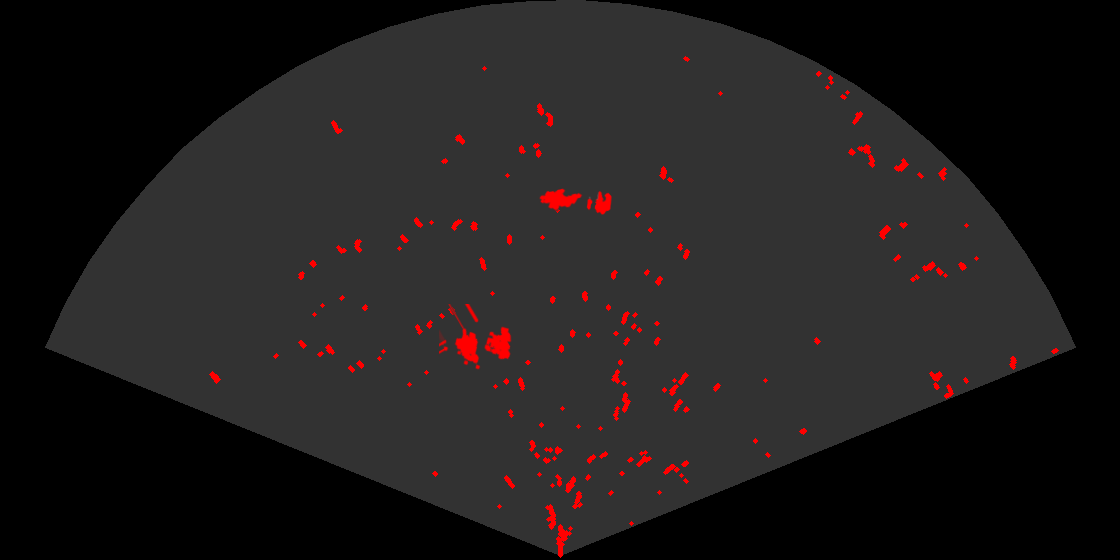AUV: (538, 187, 584, 212)
ball: (585, 189, 613, 216)
cage: (439, 304, 513, 371)
